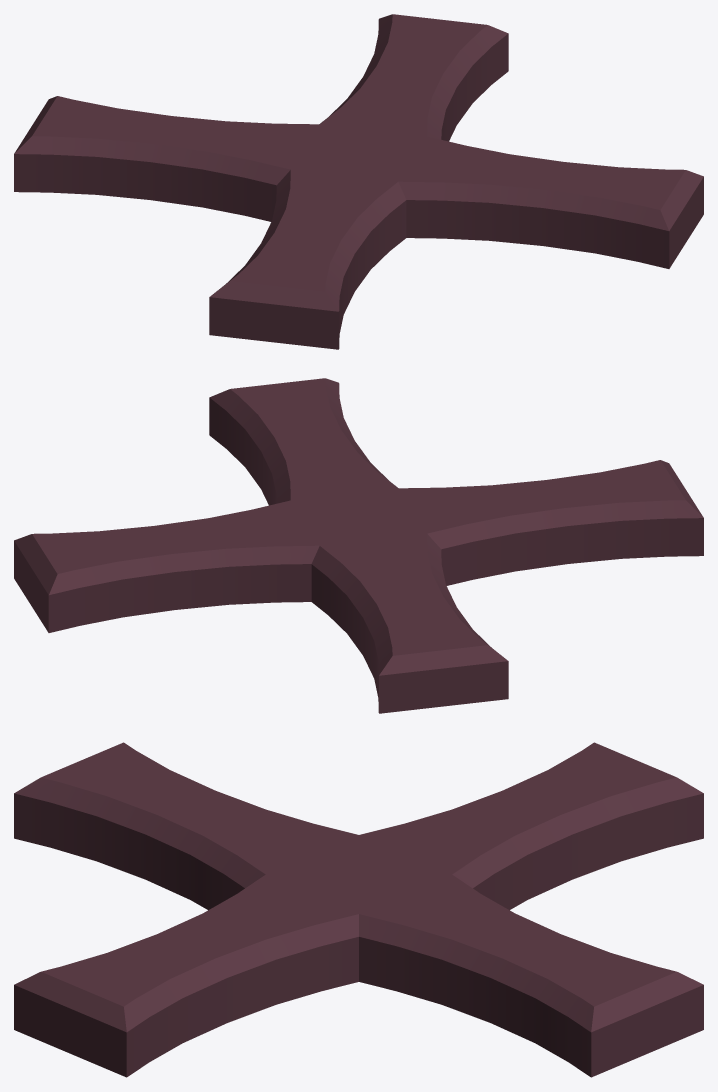
Rendered from ui-red-x.glb.
3 renders of one model, top to bottom at view 1: azimuth 30°, elevation 25°; view 2: azimuth 150°, elevation 25°; view 3: azimuth 270°, elevation 25°, orthographic. The views are drawn at different scales.
Visible parts, largest first — view 1: UI_Red_X; view 2: UI_Red_X; view 3: UI_Red_X.
Part boxes in pixels (bbox=[...]): UI_Red_X: bbox=[14, 14, 703, 349]; UI_Red_X: bbox=[14, 378, 703, 713]; UI_Red_X: bbox=[14, 742, 703, 1077].
Bounding box in the file's own units: 1.1 × 0.1064 × 1.11.
1 material, 1 textured.
